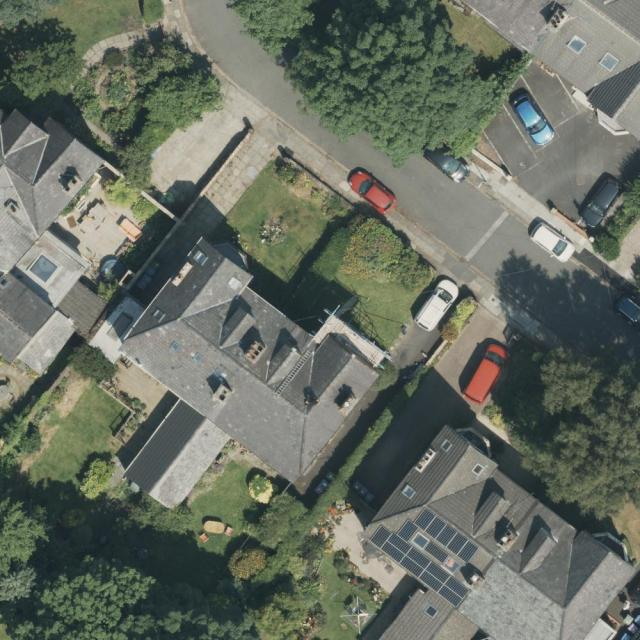roof: (114, 238, 378, 515), (359, 424, 639, 640), (0, 109, 112, 379), (452, 0, 640, 146)
skylight: (26, 252, 61, 286), (596, 50, 621, 73), (566, 34, 587, 56), (424, 602, 441, 622), (411, 531, 429, 549), (443, 556, 461, 573), (193, 249, 210, 266), (151, 307, 168, 324), (226, 278, 243, 293), (468, 463, 485, 478), (210, 365, 223, 380), (442, 438, 455, 453), (404, 485, 417, 499), (191, 351, 204, 364), (169, 339, 179, 350)
solar: (369, 507, 480, 609)
